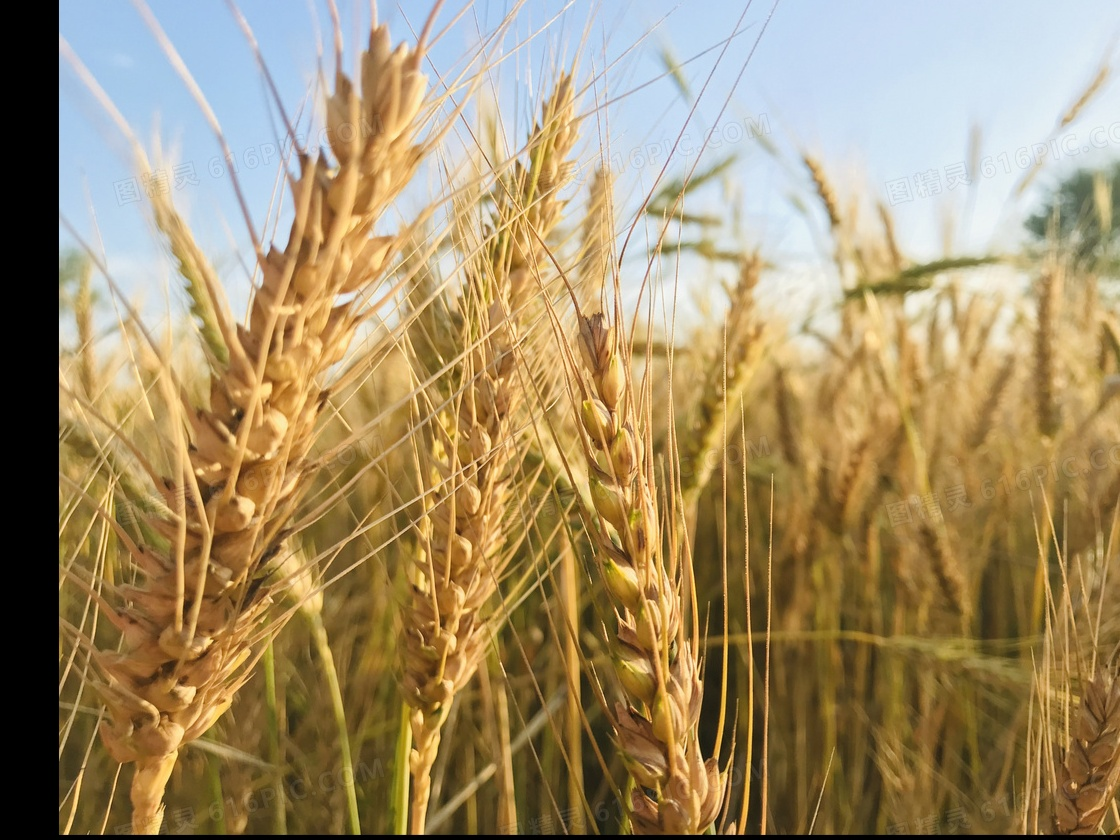wheat: (111, 50, 413, 777), (405, 132, 548, 748), (576, 330, 746, 829)
